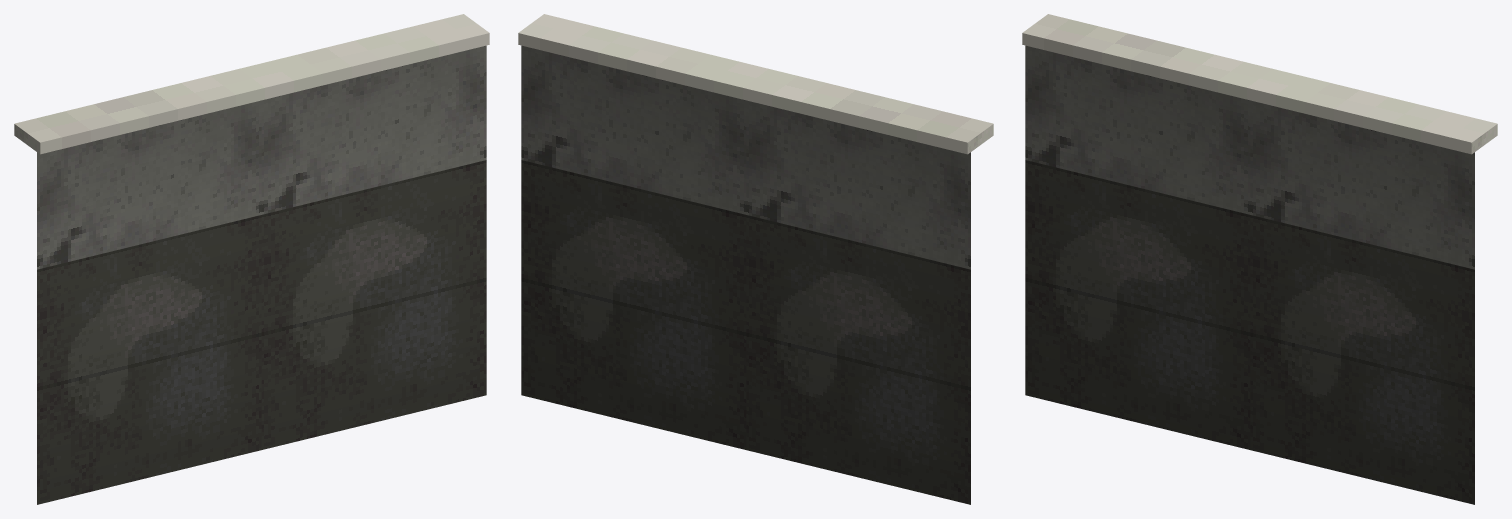
File: wall_block.glb
3 renders of one model, left to right at view 1: azimuth 30°, elevation 25°; view 2: azimuth 150°, elevation 25°; view 3: azimuth 330°, elevation 25°, orthographic.
Parts seen in each view (by area): view 1: wall_block; view 2: wall_block; view 3: wall_block.
Part boxes in pixels (box(x1,y1,x2,y2)): wall_block: box(14, 14, 489, 504); wall_block: box(518, 14, 993, 504); wall_block: box(1022, 14, 1497, 504).
Bounding box in the file's own units: 2 × 1.55 × 0.2.
